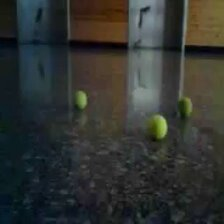tennis: (146, 115, 168, 140), (177, 97, 195, 118), (73, 90, 89, 110)
